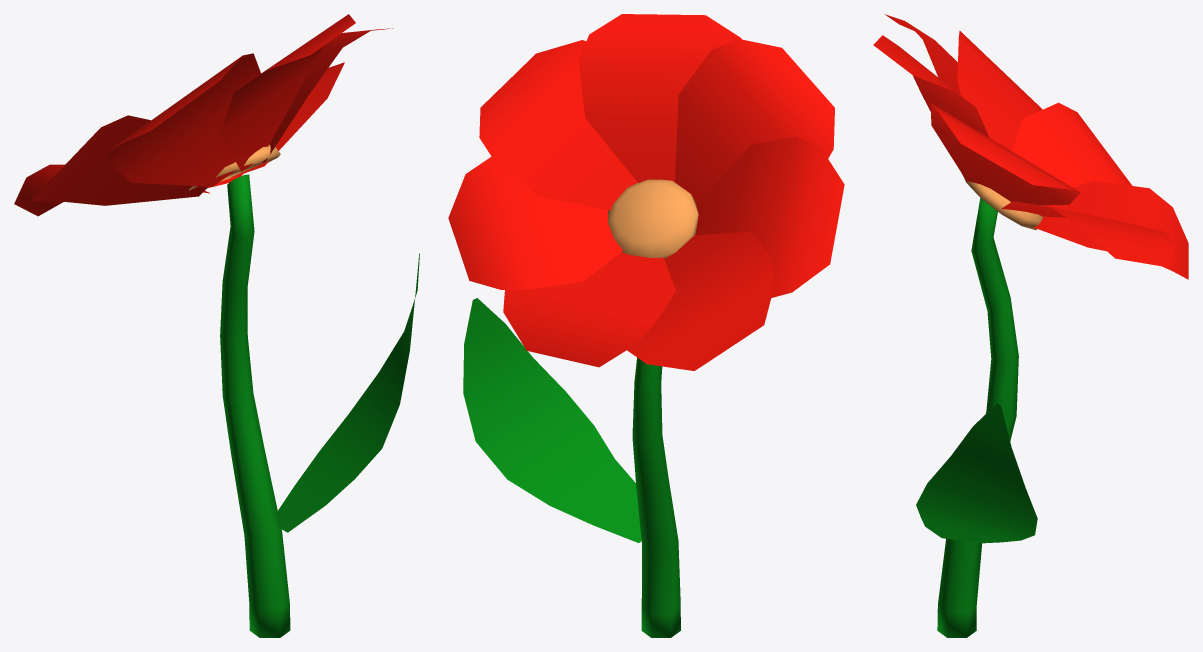
Rendered from flower.fbx.
The picture shows the model from 3 angles, left to right: view 1: azimuth 30°, elevation 25°; view 2: azimuth 150°, elevation 25°; view 3: azimuth 270°, elevation 25°; orthographic projection. The views are drawn at different scales.
Visible parts, largest first — view 1: Plane, PlantStick, Plane.001, PlantCenter; view 2: Plane, Plane.001, PlantStick, PlantCenter; view 3: Plane, Plane.001, PlantStick, PlantCenter.
Part boxes in pixels (<box>): Plane: <box>14,14,393,216</box>; PlantStick: <box>220,174,290,637</box>; Plane.001: <box>278,253,419,532</box>; PlantCenter: <box>189,144,280,190</box>; Plane: <box>448,14,844,370</box>; Plane.001: <box>463,298,641,542</box>; PlantStick: <box>632,357,680,637</box>; PlantCenter: <box>608,179,698,258</box>; Plane: <box>873,14,1188,279</box>; Plane.001: <box>916,403,1037,543</box>; PlantStick: <box>937,198,1018,637</box>; PlantCenter: <box>962,174,1043,230</box>.
Bounding box in the file's own units: 347 × 525 × 257.
